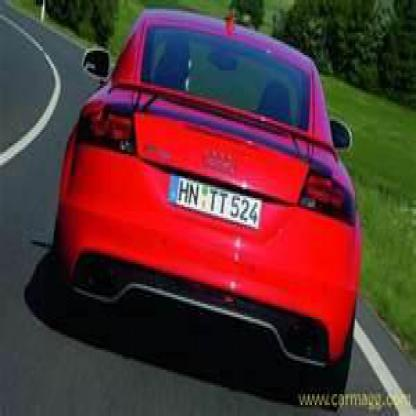Vehicle: (56, 13, 366, 396)
